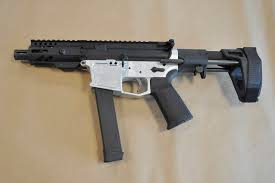Gun: (12, 34, 266, 172)
